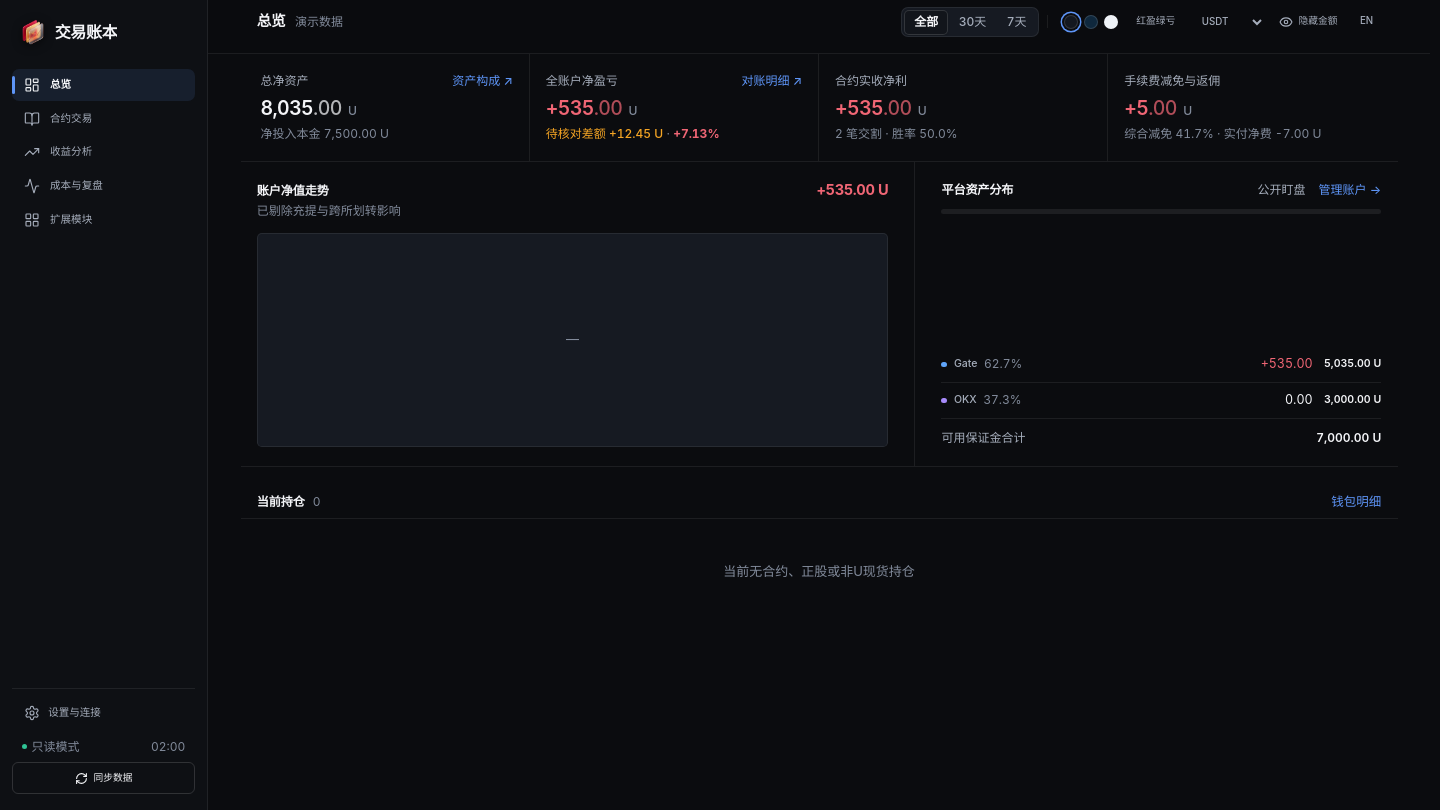
Warnings, Partial Sync Banners, Sub-Account Onboarding & AuthGate Preferences › keeps the explicit demo dashboard and reports a demo refresh without a live sync
Expected: the element with test id "overview-page" is shown, [240,54,1398,633]
Expected: the text "演示数据" is shown, [295,13,343,31]
Click the button with test id "sync-now-btn".
click(104, 778)  # box [12,762,195,794]
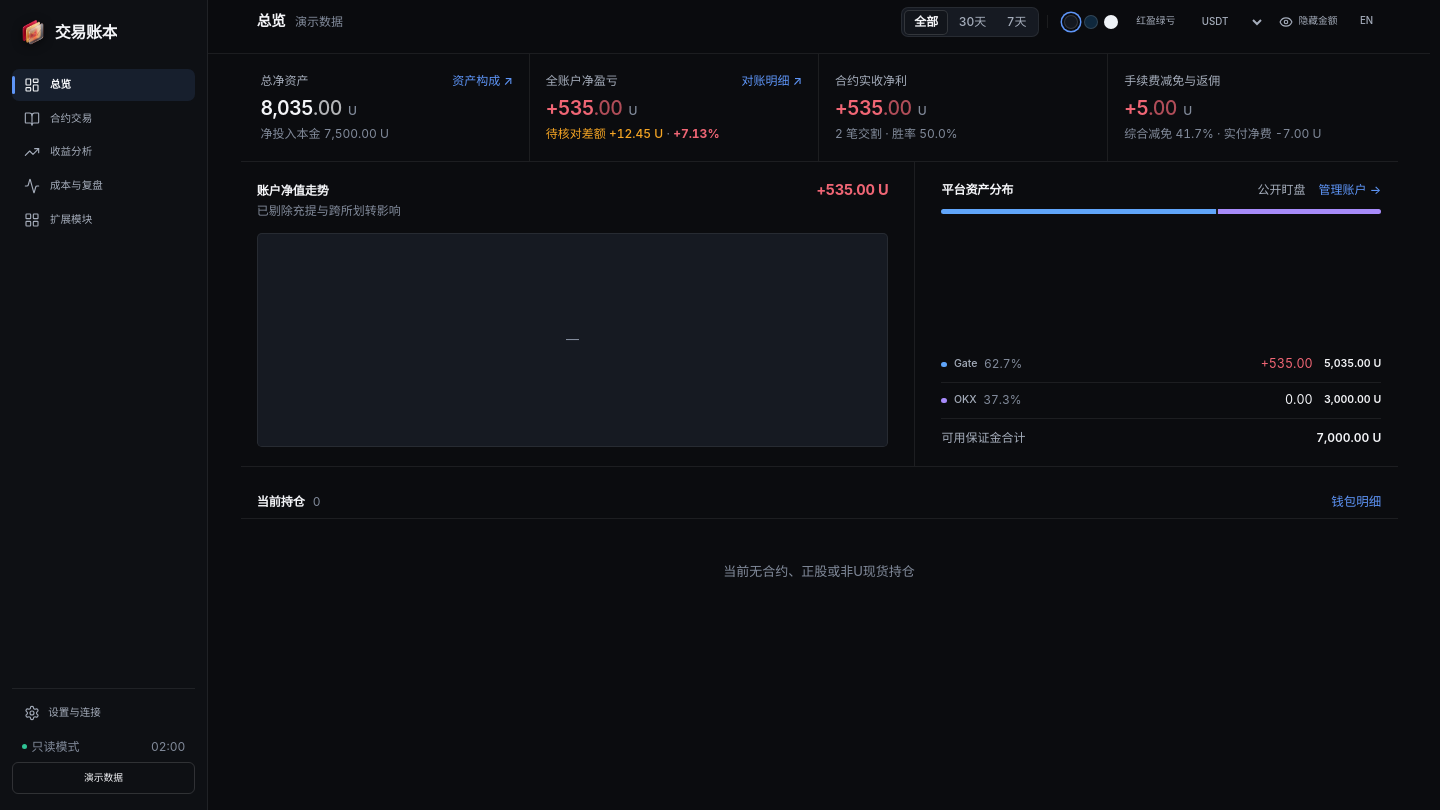
Now the button with test id "sync-now-btn" reads "演示数据", box [12,762,195,794]
